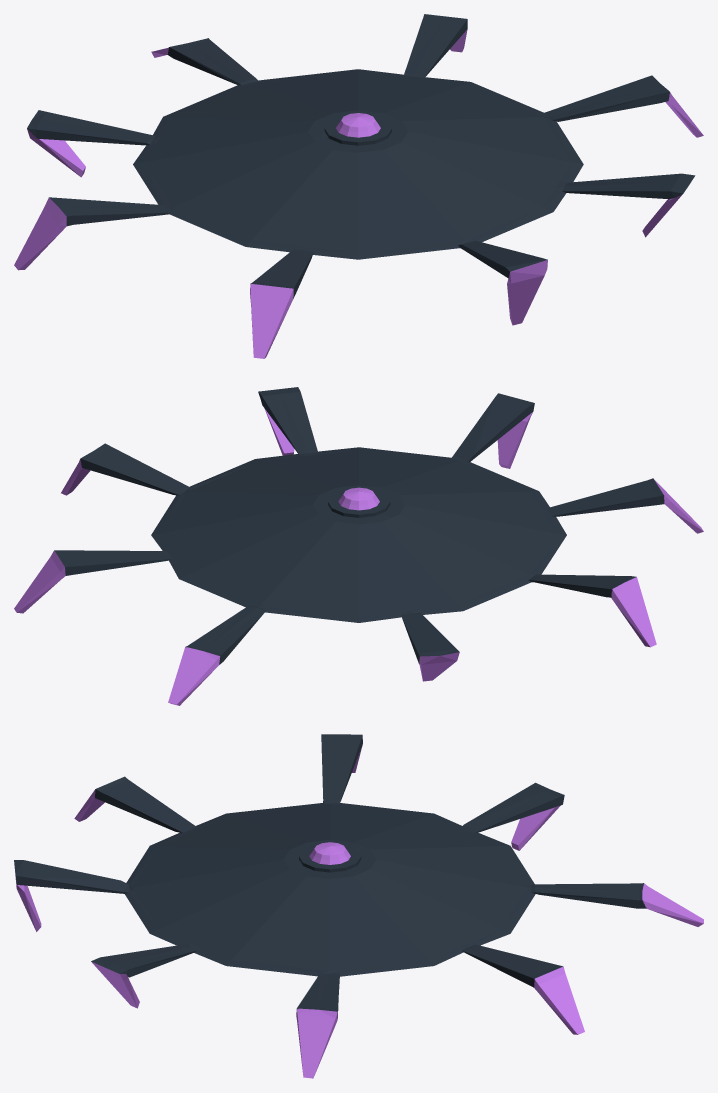
File: Spider_Walk_000010.obj
3 views of the same model, one above another, from view 1: azimuth 30°, elevation 25°; view 2: azimuth 150°, elevation 25°; view 3: azimuth 270°, elevation 25° (orthographic). The views are drawn at different scales.
Parts seen in each view (by area): view 1: Circle_Circle.001; view 2: Circle_Circle.001; view 3: Circle_Circle.001.
Part boxes in pixels (x1,y1,x2,y2): Circle_Circle.001: (14, 14, 703, 358); Circle_Circle.001: (14, 387, 703, 705); Circle_Circle.001: (14, 734, 703, 1078).
Size of the model in its own units: 3.4 by 0.4444 by 3.31.
